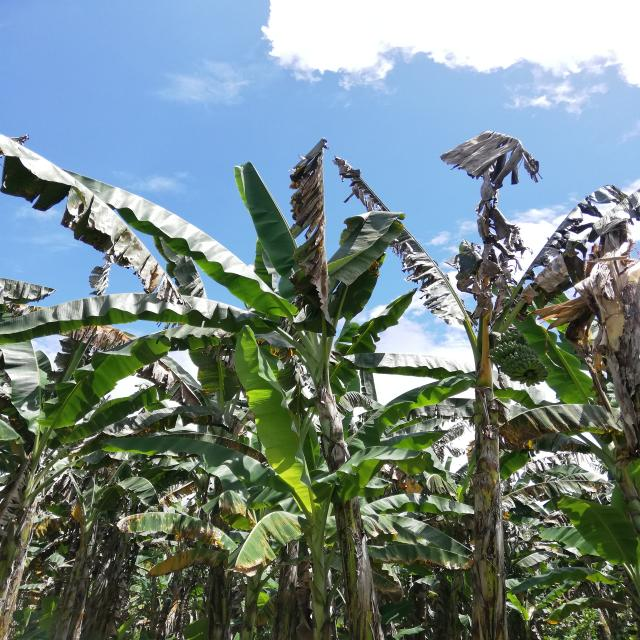Banana-plant: (291, 338, 396, 640)
